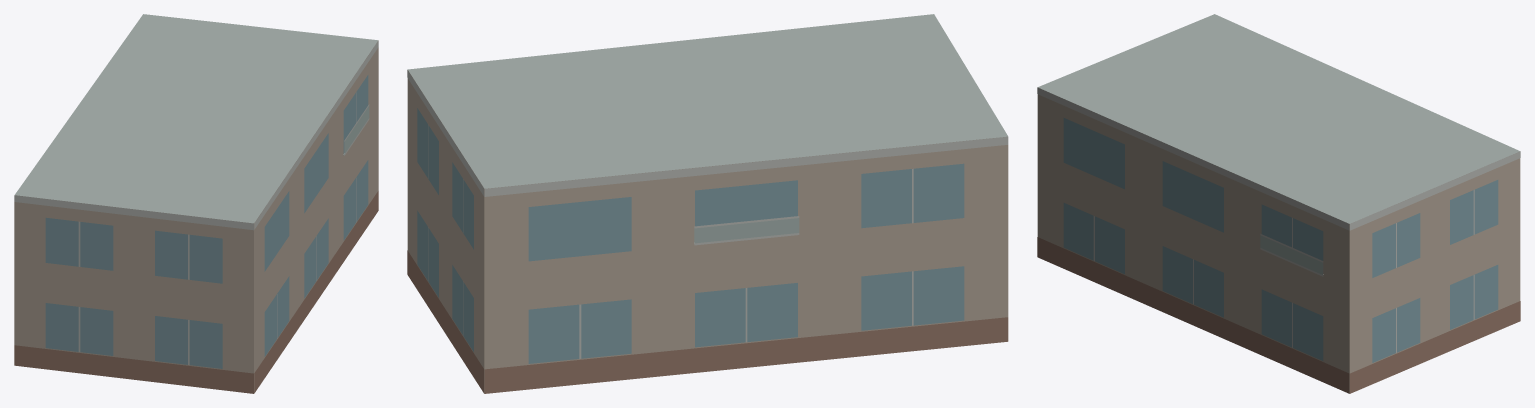
The model's file is survey-upis-32600616.glb.
3 views of the same model, side by side, from view 1: azimuth 30°, elevation 25°; view 2: azimuth 150°, elevation 25°; view 3: azimuth 270°, elevation 25° (orthographic). The views are drawn at different scales.
Parts seen in each view (by area): view 1: survey-upis-32600616.tmp; view 2: survey-upis-32600616.tmp; view 3: survey-upis-32600616.tmp.
Part boxes in pixels (<box>): survey-upis-32600616.tmp: <box>14,14,378,393</box>; survey-upis-32600616.tmp: <box>407,14,1008,393</box>; survey-upis-32600616.tmp: <box>1037,14,1520,393</box>.
Bounding box in the file's own units: 16.18 × 6.1 × 15.73.
